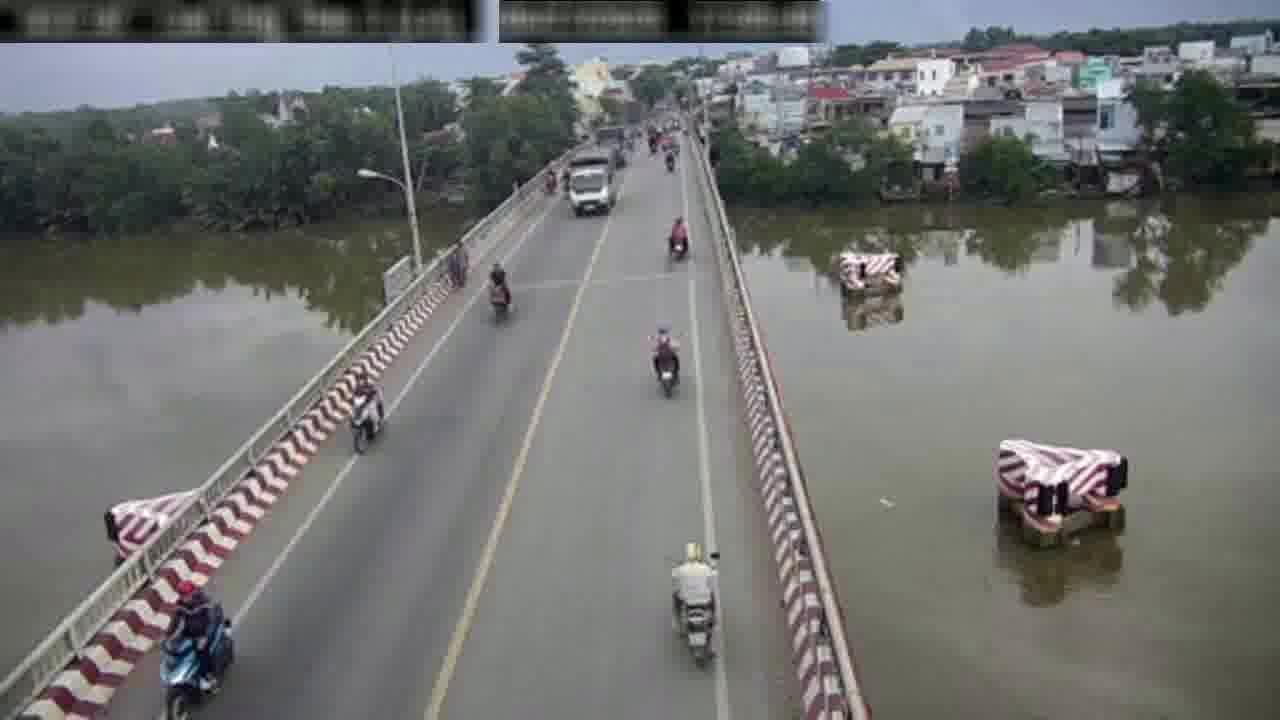container: (565, 145, 615, 220)
motorbike: (156, 579, 236, 720), (670, 534, 717, 672), (346, 364, 380, 461), (650, 316, 682, 404), (484, 256, 512, 325), (665, 210, 690, 268)
